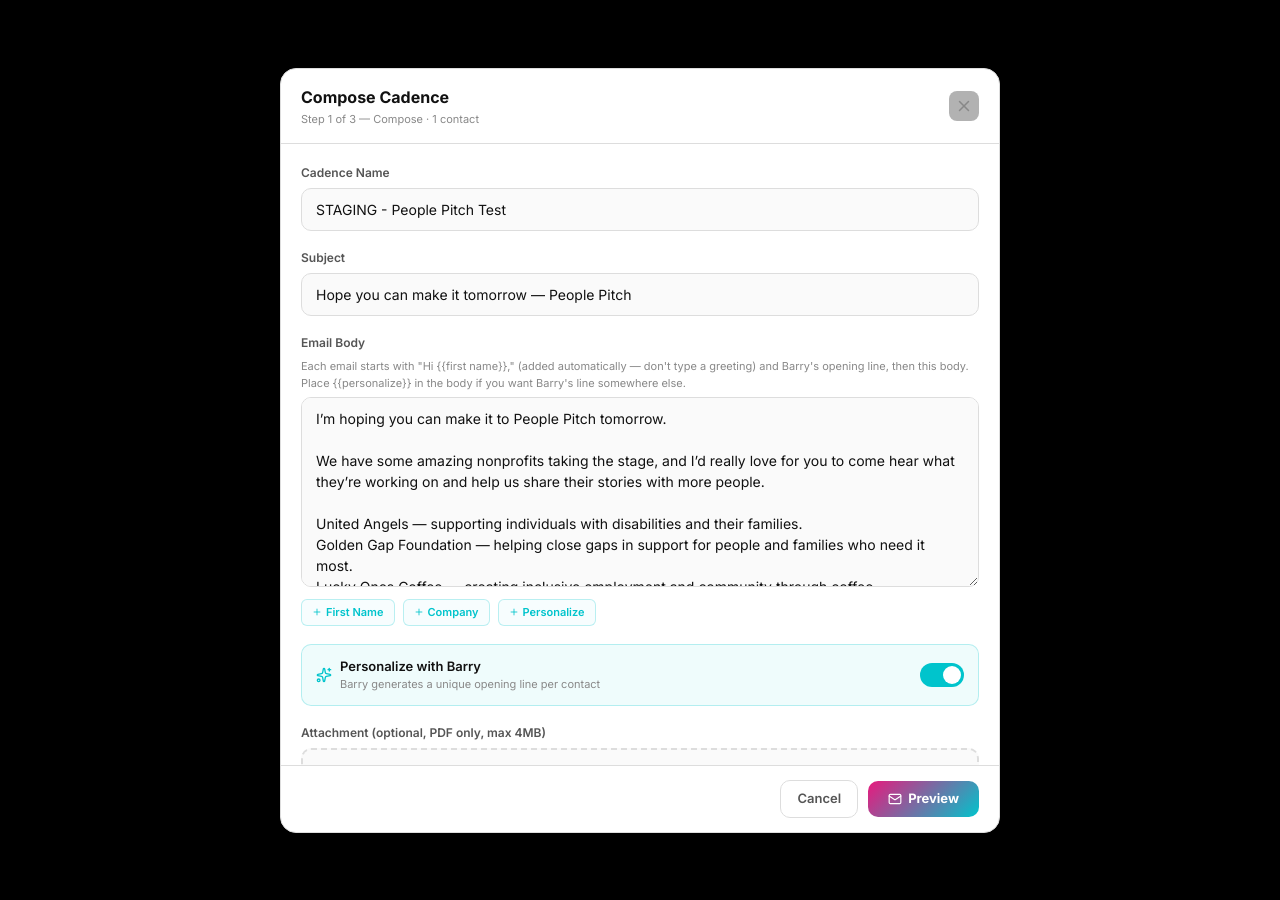
Send Test shows which server sent it › warns loudly when the server that sent the test is outdated
Click the button "Preview" at (924, 799), box [868,781,979,816]
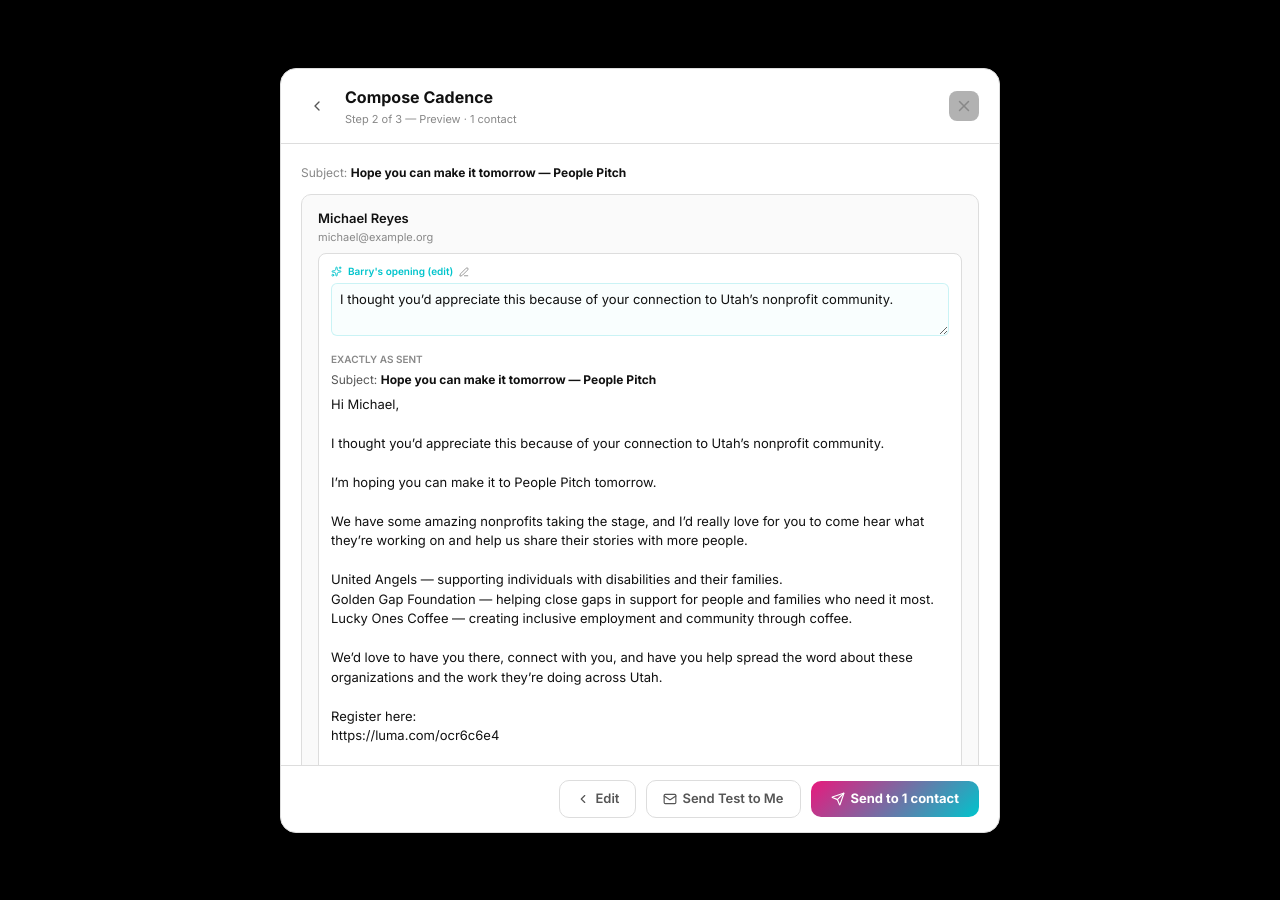
Click the button "Send Test to Me" at (723, 799), box [646,780,800,818]
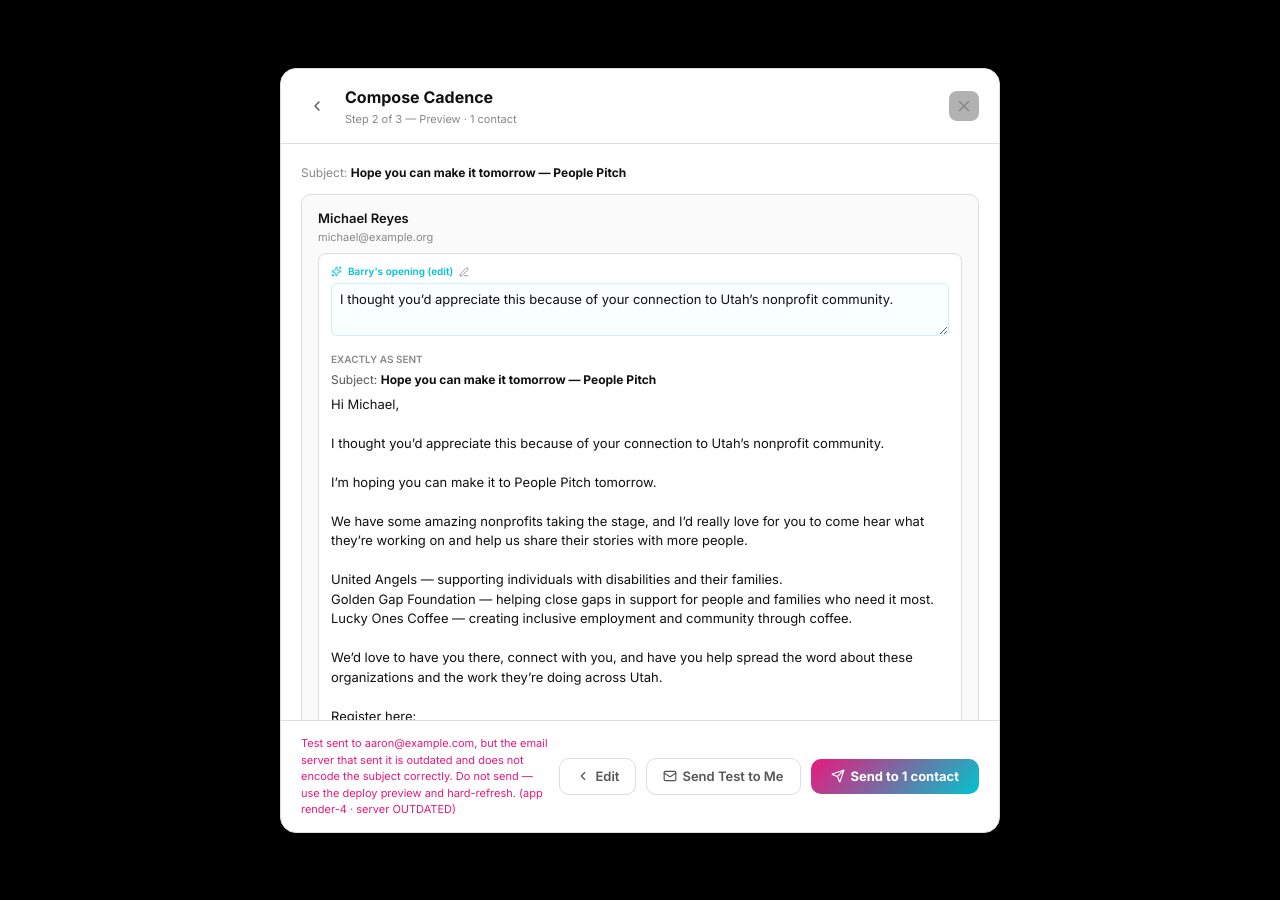
Now the text "server OUTDATED" is shown, box [301,736,548,816]
